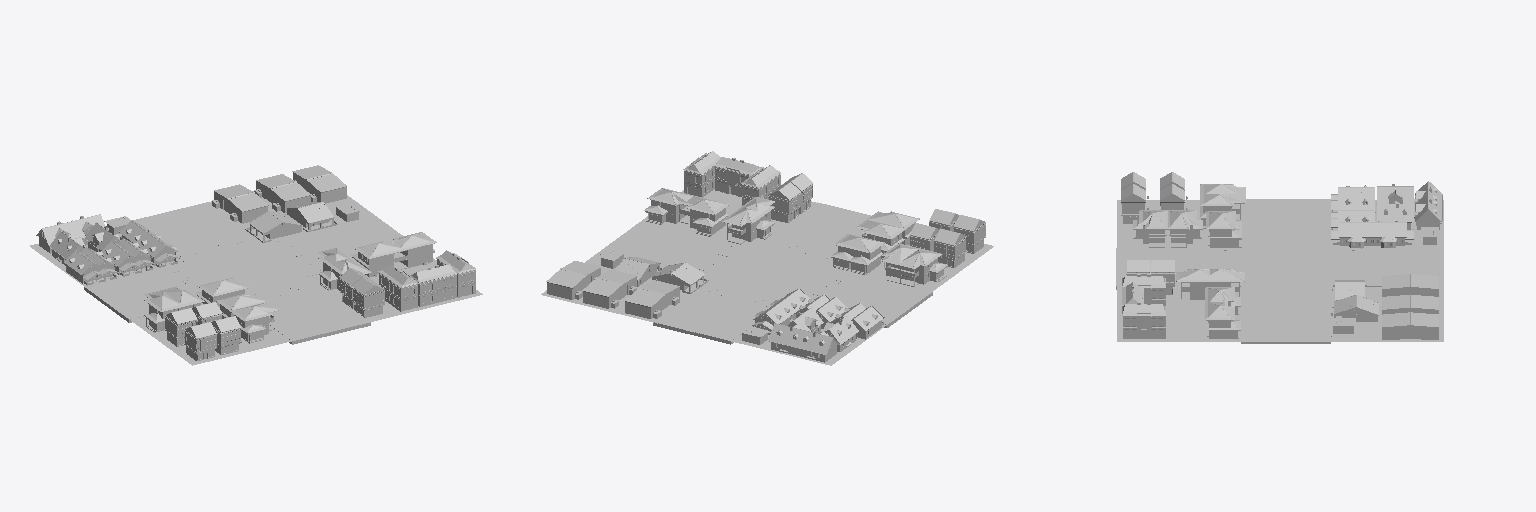
Rendered from Street environment_V01.obj.
3 views of the same model, side by side, from view 1: azimuth 30°, elevation 25°; view 2: azimuth 150°, elevation 25°; view 3: azimuth 270°, elevation 25° (orthographic).
Parts seen in each view (by area): view 1: Line002, Plane001, City_building_026, City_building_022, City_building_007, City_building_038, City_building_016, City_building_011, City_building_023, City_building_004, City_building_010, City_building_014 (+15 smaller); view 2: Line002, Plane001, City_building_026, City_building_038, City_building_033, City_building_034, City_building_037, City_building_022, City_building_007, City_building_011, City_building_023, City_building_014 (+13 smaller); view 3: Line002, Plane001, City_building_022, City_building_014, City_building_026, City_building_017, City_building_023, City_building_034, City_building_038, City_building_037, City_building_007, City_building_033 (+12 smaller).
Boxes of the visible parts, x1,y1,x2,y2 form: Line002: [84, 202, 402, 344]; Plane001: [30, 191, 482, 365]; City_building_026: [351, 232, 436, 277]; City_building_022: [216, 293, 279, 343]; City_building_007: [212, 184, 268, 223]; City_building_038: [144, 286, 204, 332]; City_building_016: [410, 264, 456, 306]; City_building_011: [254, 174, 310, 212]; City_building_023: [292, 165, 346, 203]; City_building_004: [64, 247, 118, 285]; City_building_010: [378, 264, 418, 311]; City_building_014: [118, 220, 178, 267]; Line002: [598, 202, 932, 344]; Plane001: [541, 189, 993, 365]; City_building_026: [644, 188, 729, 236]; City_building_038: [882, 243, 947, 286]; City_building_033: [768, 323, 839, 362]; City_building_034: [722, 197, 774, 244]; City_building_037: [831, 234, 884, 274]; City_building_022: [856, 211, 919, 259]; City_building_007: [625, 280, 679, 318]; City_building_011: [582, 270, 636, 308]; City_building_023: [546, 261, 600, 299]; City_building_014: [752, 288, 810, 334]; Line002: [1116, 199, 1443, 343]; Plane001: [1117, 200, 1443, 341]; City_building_022: [1133, 210, 1202, 247]; City_building_014: [1331, 221, 1413, 248]; City_building_026: [1205, 287, 1240, 338]; City_building_017: [1122, 303, 1165, 338]; City_building_023: [1382, 312, 1438, 339]; City_building_034: [1176, 269, 1244, 299]; City_building_038: [1200, 184, 1245, 228]; City_building_037: [1206, 211, 1241, 247]; City_building_007: [1382, 274, 1438, 296]; City_building_033: [1414, 181, 1442, 229].
Bounding box in the file's own units: 96.86 × 11.25 × 94.37.